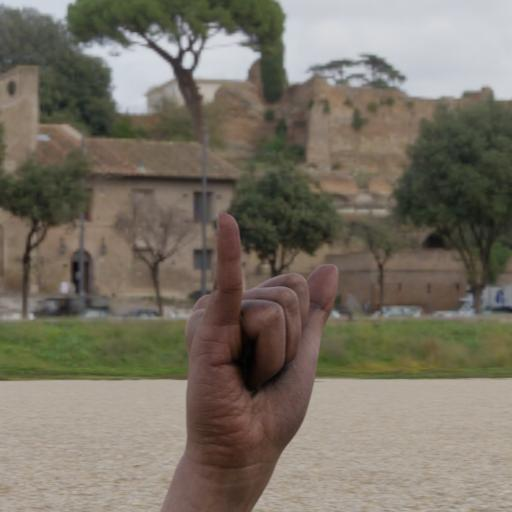Y: (176, 207, 347, 474)
